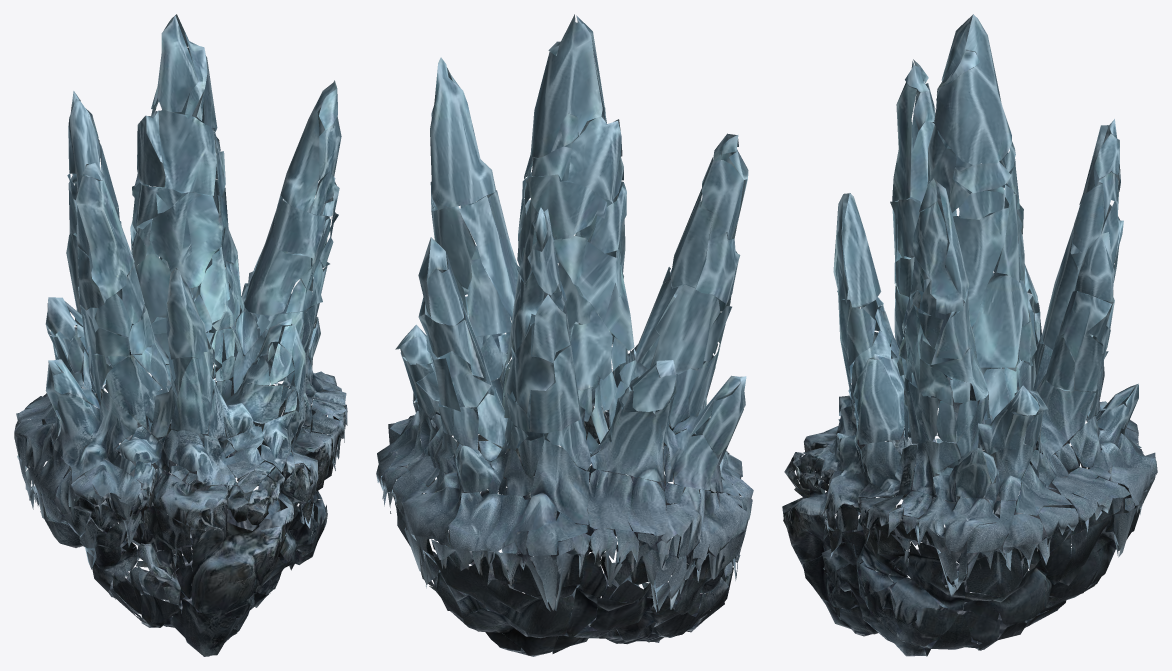
File: ice_crystals.glb
3 renders of one model, left to right at view 1: azimuth 30°, elevation 25°; view 2: azimuth 150°, elevation 25°; view 3: azimuth 270°, elevation 25°, orthographic. The views are drawn at different scales.
Parts seen in each view (by area): view 1: LairIceCrystals; view 2: LairIceCrystals; view 3: LairIceCrystals.
Part boxes in pixels (left/top/right/bottom): LairIceCrystals: left=14, top=14, right=347, bottom=656; LairIceCrystals: left=376, top=14, right=753, bottom=656; LairIceCrystals: left=782, top=14, right=1157, bottom=656.
Bounding box in the file's own units: 0.5324 × 1 × 0.536.
1 material, 1 textured.
